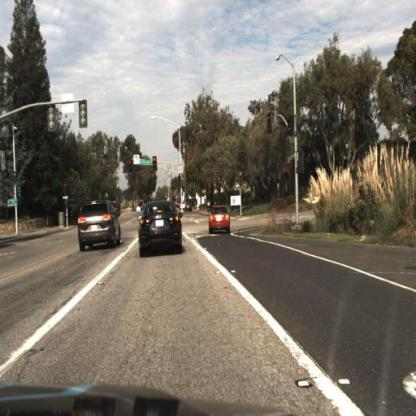car: (140, 203, 180, 258), (79, 203, 122, 251), (210, 206, 231, 231)
trafficLight-Red: (151, 152, 159, 173), (236, 171, 245, 189)
trafficLight-RedLeft: (128, 157, 133, 173)
